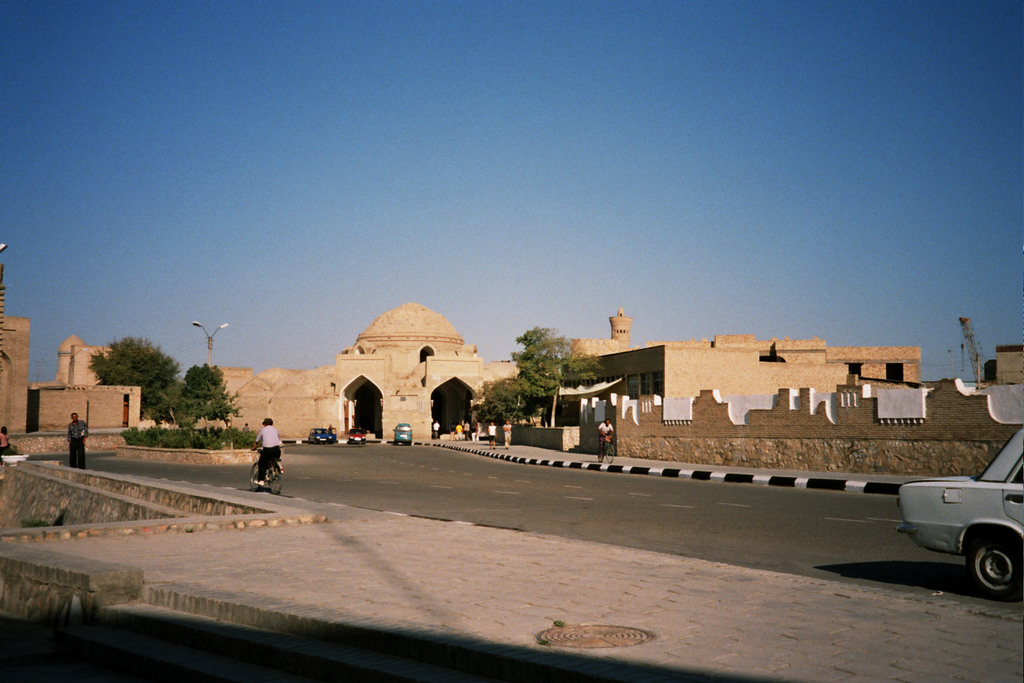Car: (896, 424, 1023, 598), (309, 424, 339, 444)
